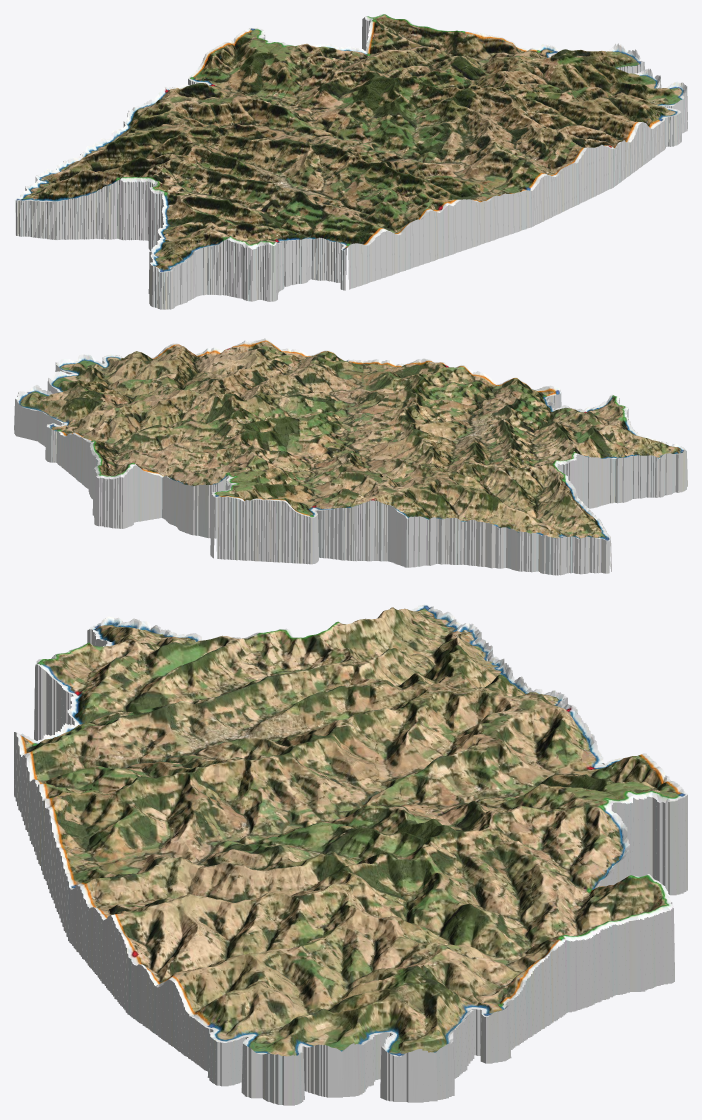
The picture shows the model from 3 angles, top to bottom: view 1: azimuth 30°, elevation 25°; view 2: azimuth 150°, elevation 25°; view 3: azimuth 270°, elevation 25°; orthographic projection. The views are drawn at different scales.
Bounding box in the file's own units: 0.9999 × 0.0992 × 0.6329.
1 material, 1 textured.
